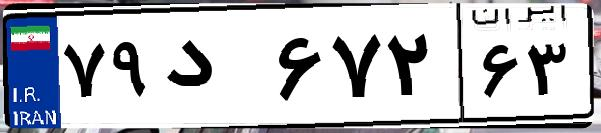2: (385, 28, 445, 110)
3: (525, 38, 570, 115)
6: (270, 28, 330, 110), (475, 38, 525, 113)
7: (330, 28, 385, 110), (57, 26, 110, 100)
9: (110, 28, 158, 98)
د: (158, 20, 270, 120)
